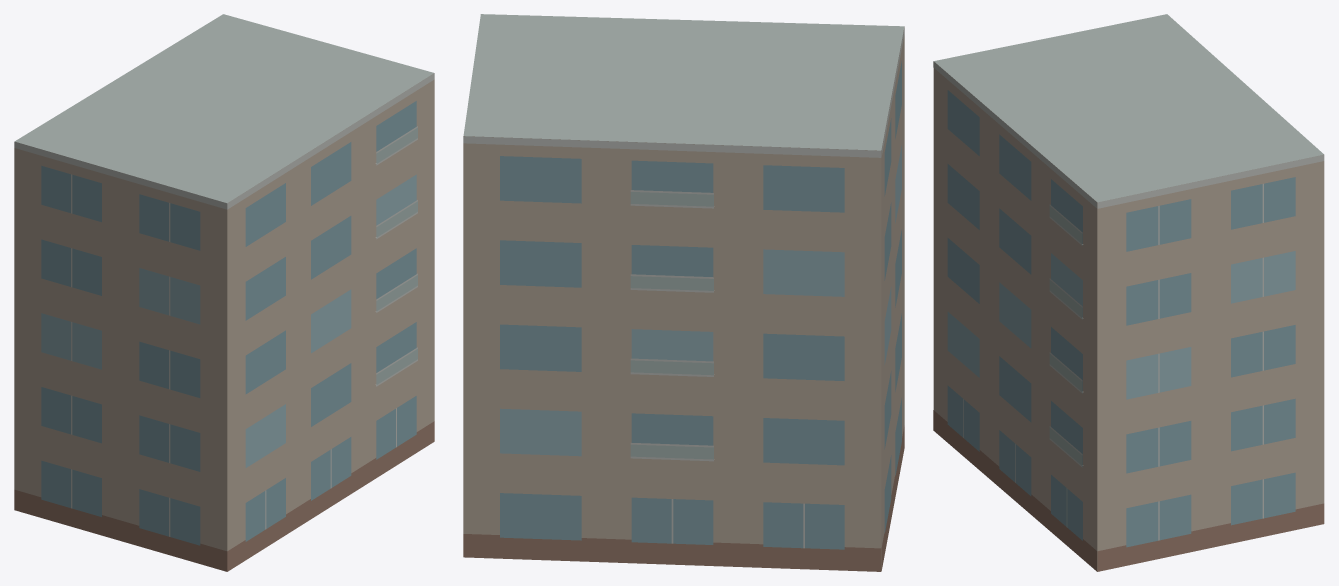
File: survey-upis-32913463.glb
3 views of the same model, side by side, from view 1: azimuth 30°, elevation 25°; view 2: azimuth 150°, elevation 25°; view 3: azimuth 270°, elevation 25° (orthographic). The views are drawn at different scales.
Visible parts, largest first — view 1: survey-upis-32913463.tmp; view 2: survey-upis-32913463.tmp; view 3: survey-upis-32913463.tmp.
Boxes of the visible parts, x1,y1,x2,y2 form: survey-upis-32913463.tmp: (14, 14, 434, 571); survey-upis-32913463.tmp: (463, 14, 904, 571); survey-upis-32913463.tmp: (933, 14, 1324, 571).
Bounding box in the file's own units: 15.38 × 14.05 × 13.48.
